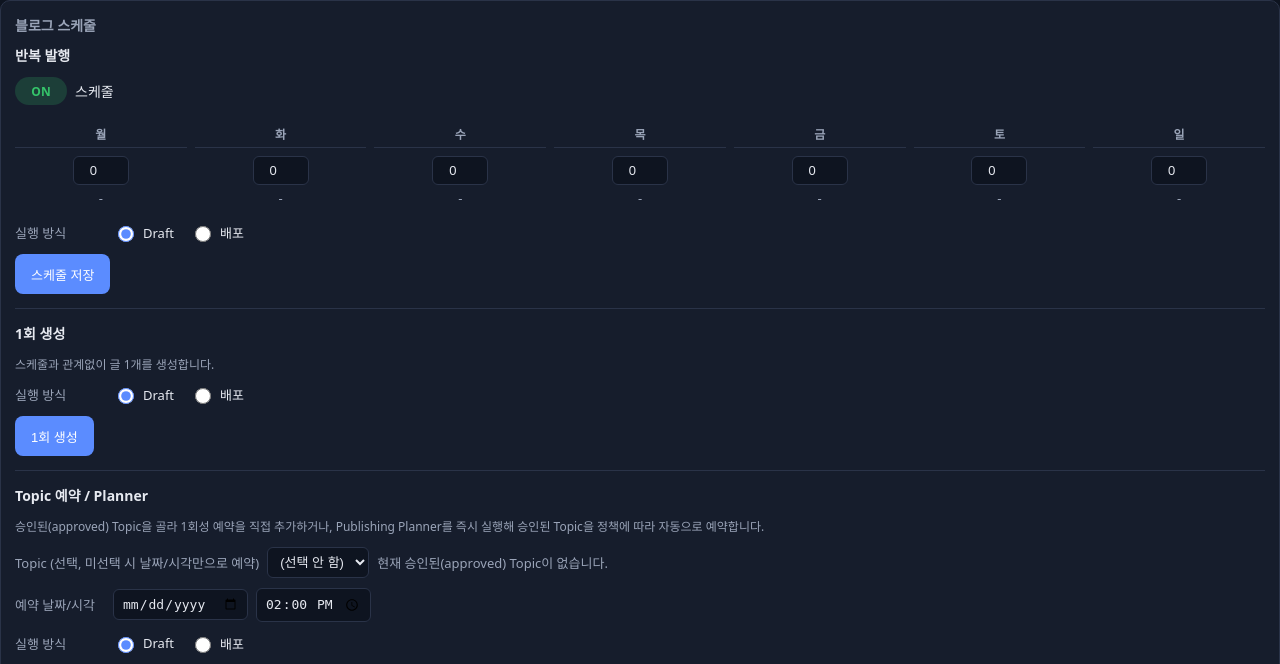
BlogSchedulerPanel — Save › shows an error message when save fails, without pretending success
Click the button "스케줄 저장": {"x": 63, "y": 274} [15, 254, 110, 294]
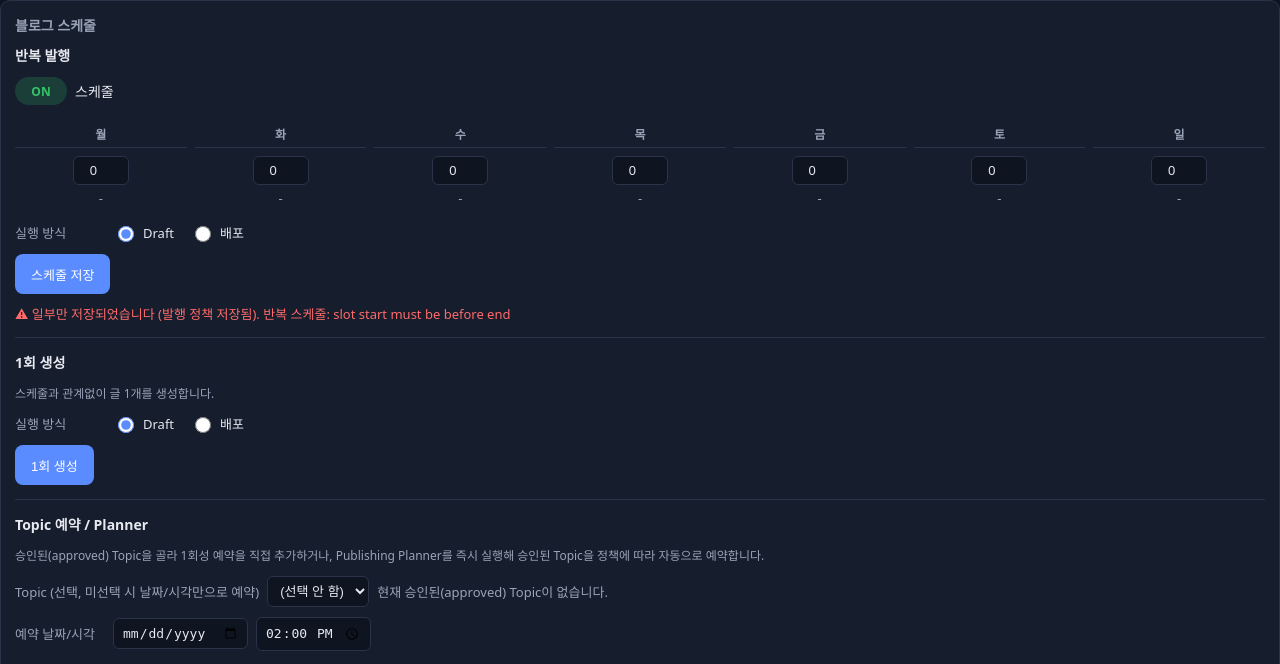
Check: the text "slot start must be before end" is shown, box [32, 305, 510, 323]
